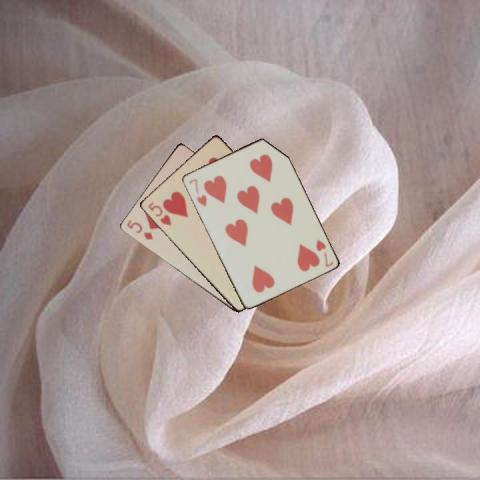5d: (123, 217, 155, 241)
5h: (144, 199, 172, 227)
7h: (185, 175, 208, 208), (312, 236, 334, 269)
